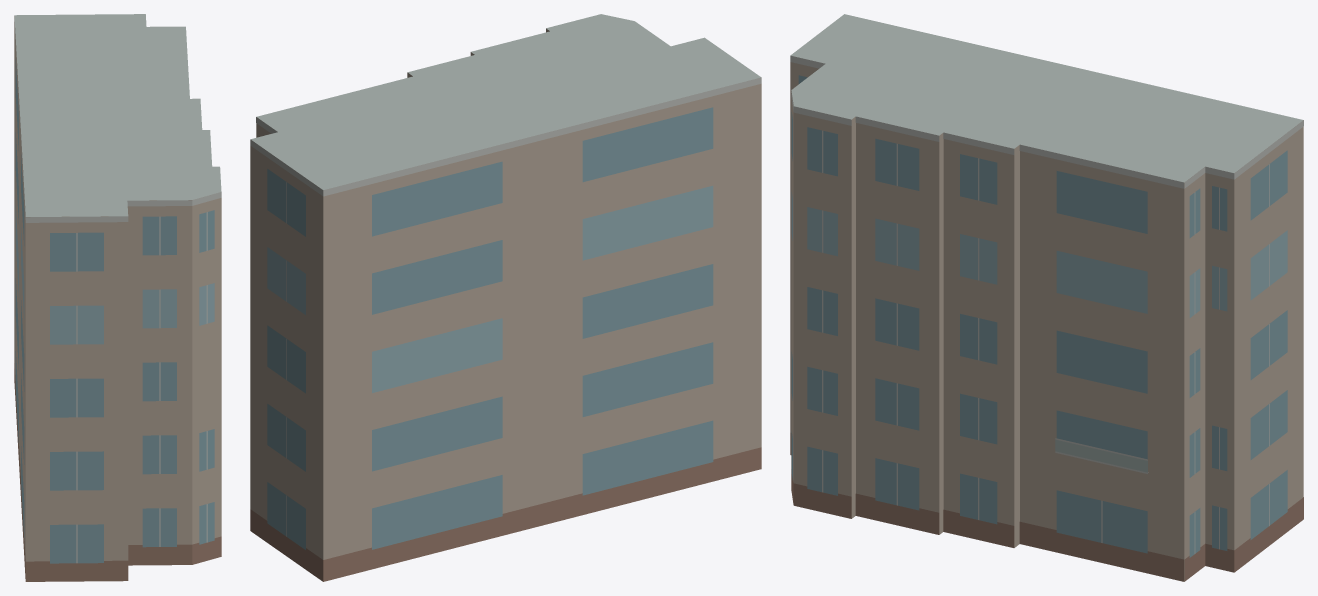
Rendered from survey-upis-32948263.glb.
The picture shows the model from 3 angles, left to right: view 1: azimuth 30°, elevation 25°; view 2: azimuth 150°, elevation 25°; view 3: azimuth 270°, elevation 25°; orthographic projection. The views are drawn at different scales.
Parts seen in each view (by area): view 1: survey-upis-32948263.tmp; view 2: survey-upis-32948263.tmp; view 3: survey-upis-32948263.tmp.
Boxes of the visible parts, x1=… form: survey-upis-32948263.tmp: x1=14, y1=14, x2=221, y2=581; survey-upis-32948263.tmp: x1=250, y1=14, x2=761, y2=581; survey-upis-32948263.tmp: x1=790, y1=14, x2=1303, y2=581.
Bounding box in the file's own units: 13.81 × 15.25 × 17.78.
